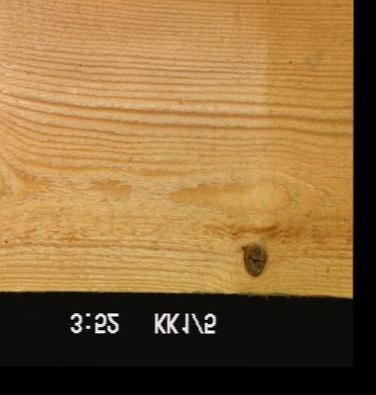dry_knot: (238, 241, 266, 276)
